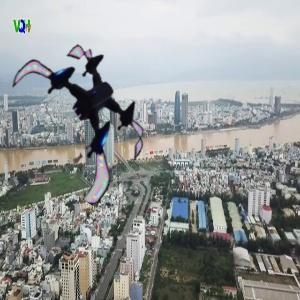drone: (6, 34, 159, 187)
